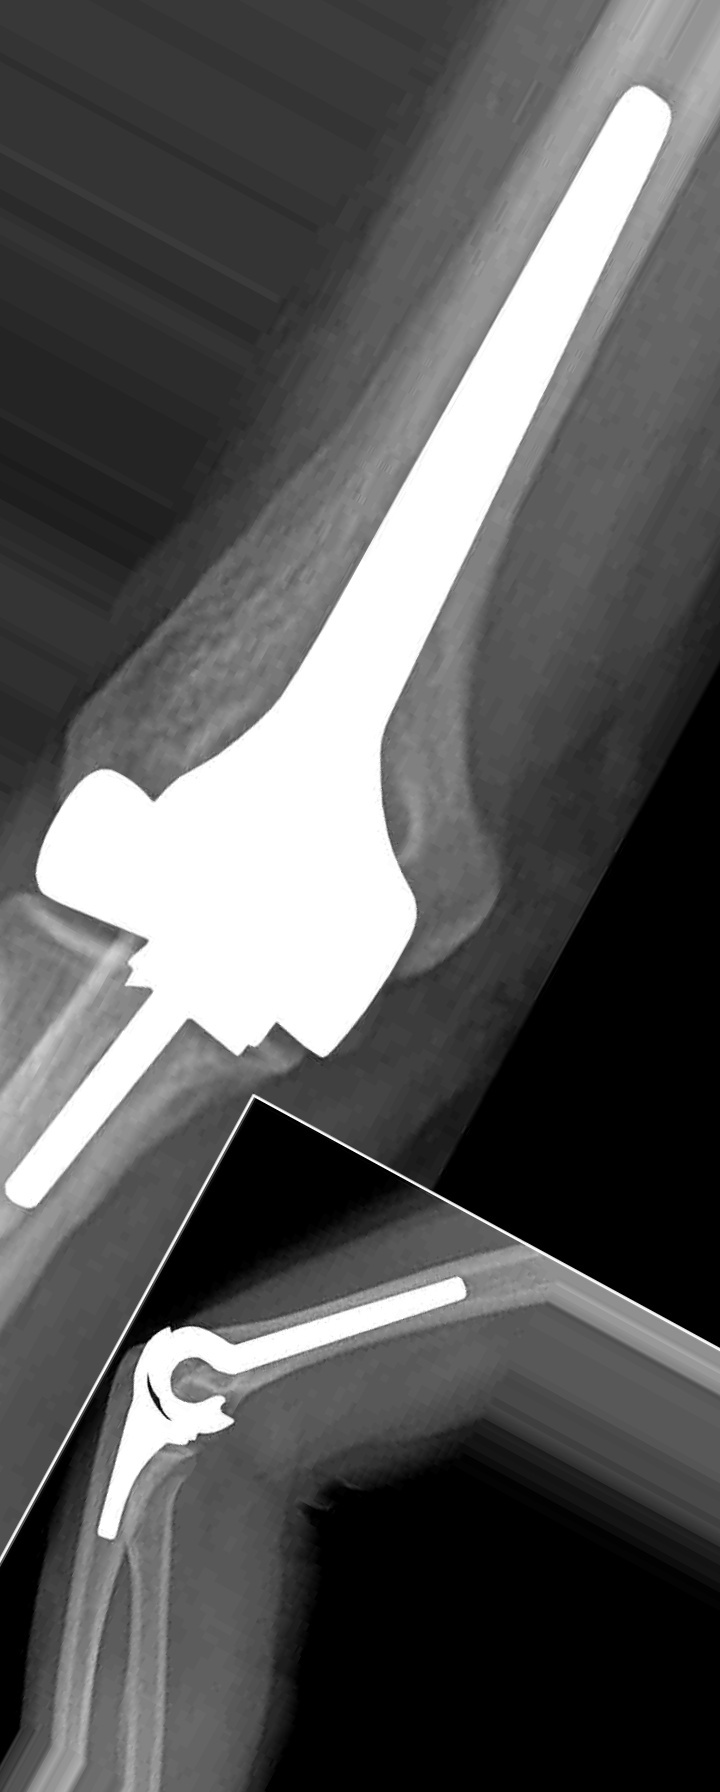Elbow - IBP - Biomet: (1, 41, 677, 1237), (77, 1275, 521, 1541)
